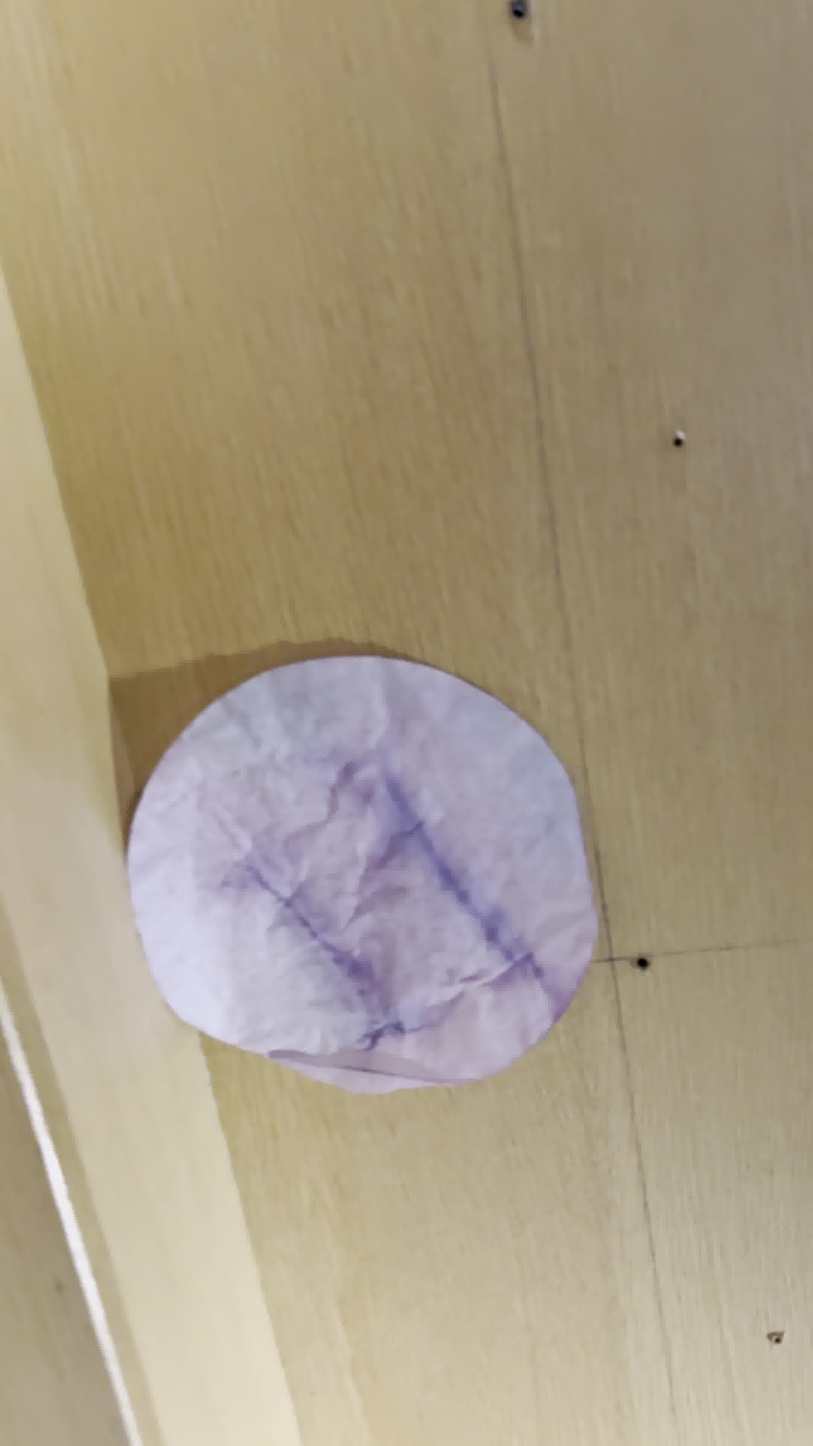Target: (122, 654, 603, 1089)
